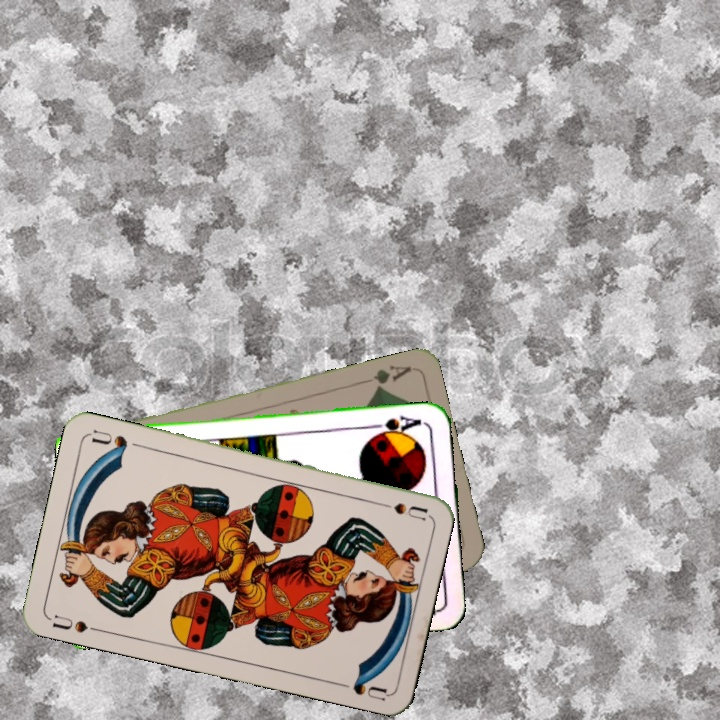GA: (369, 361, 414, 393)
SA: (370, 411, 429, 439)
SU: (370, 496, 429, 523), (46, 610, 104, 636)
